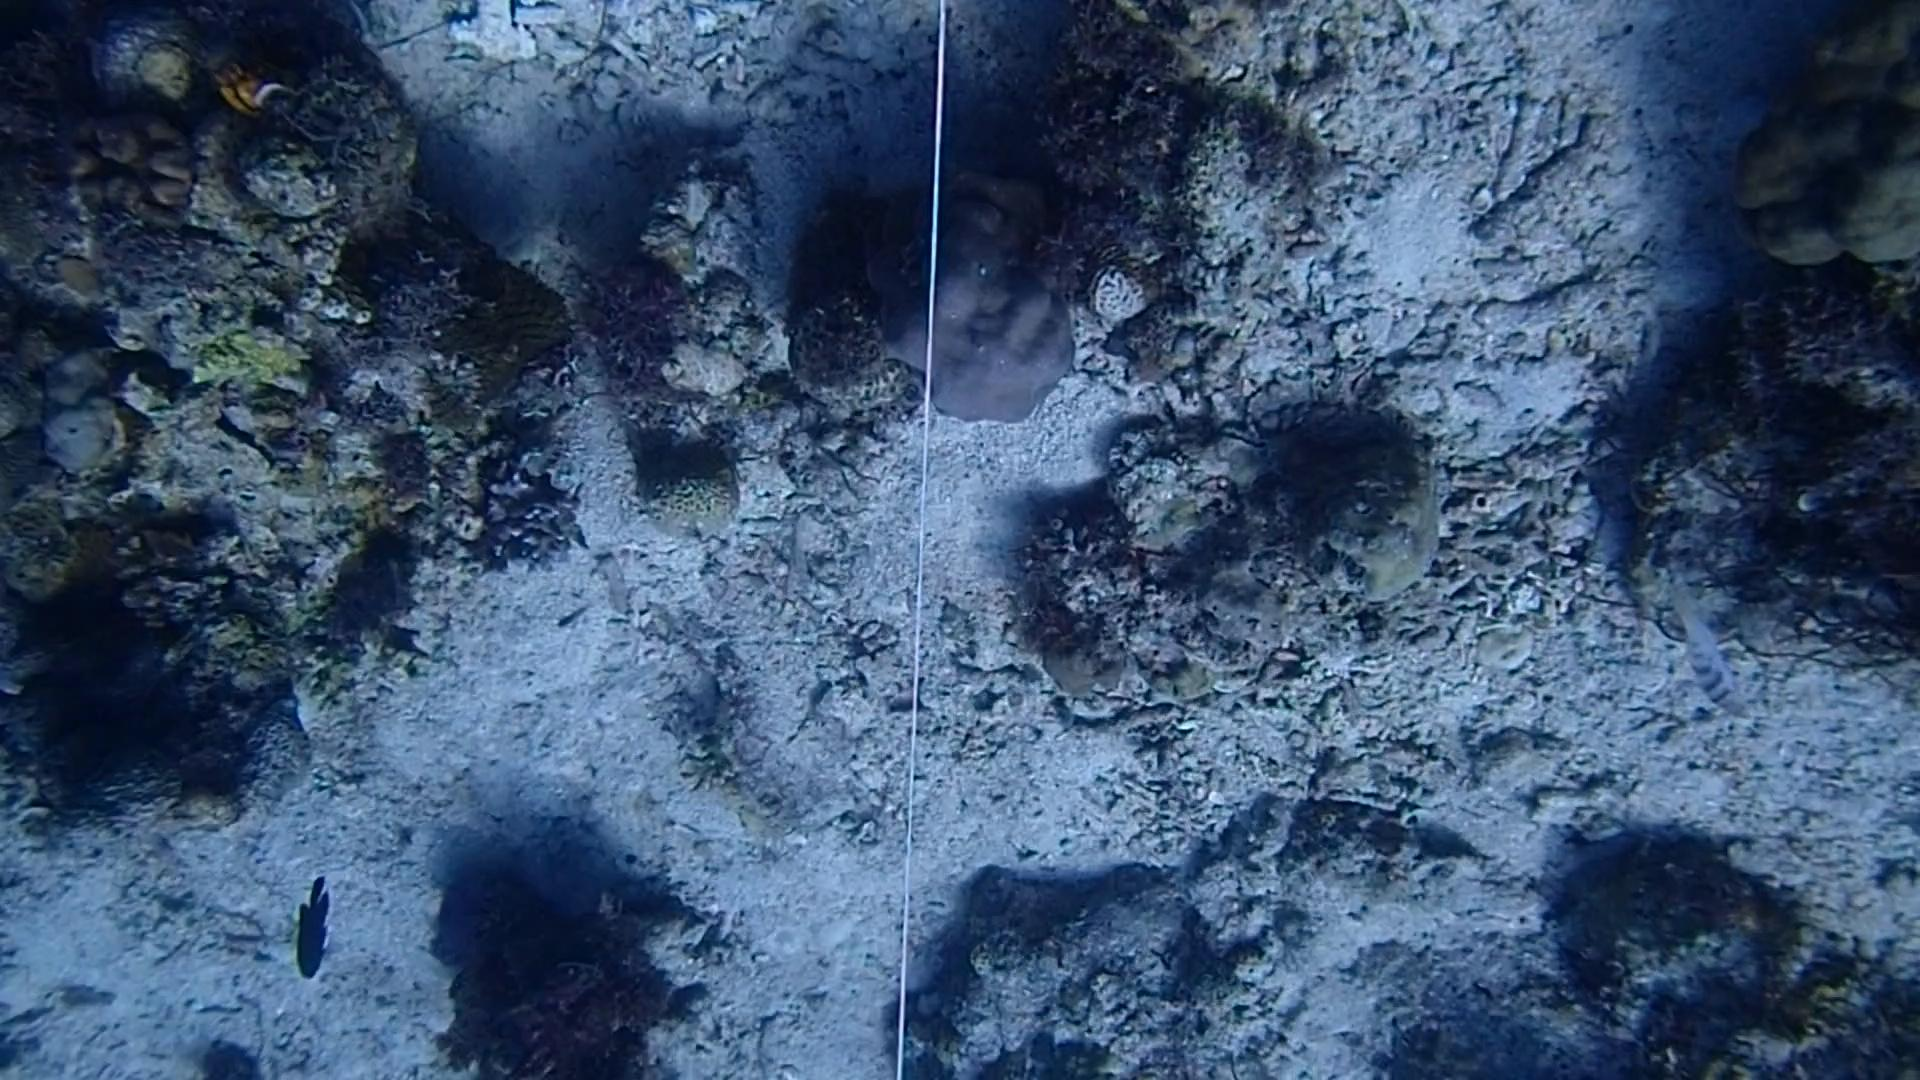Dark Fish: (276, 872, 355, 984)
Light Fish w Back Stripes: (1651, 570, 1764, 741)
